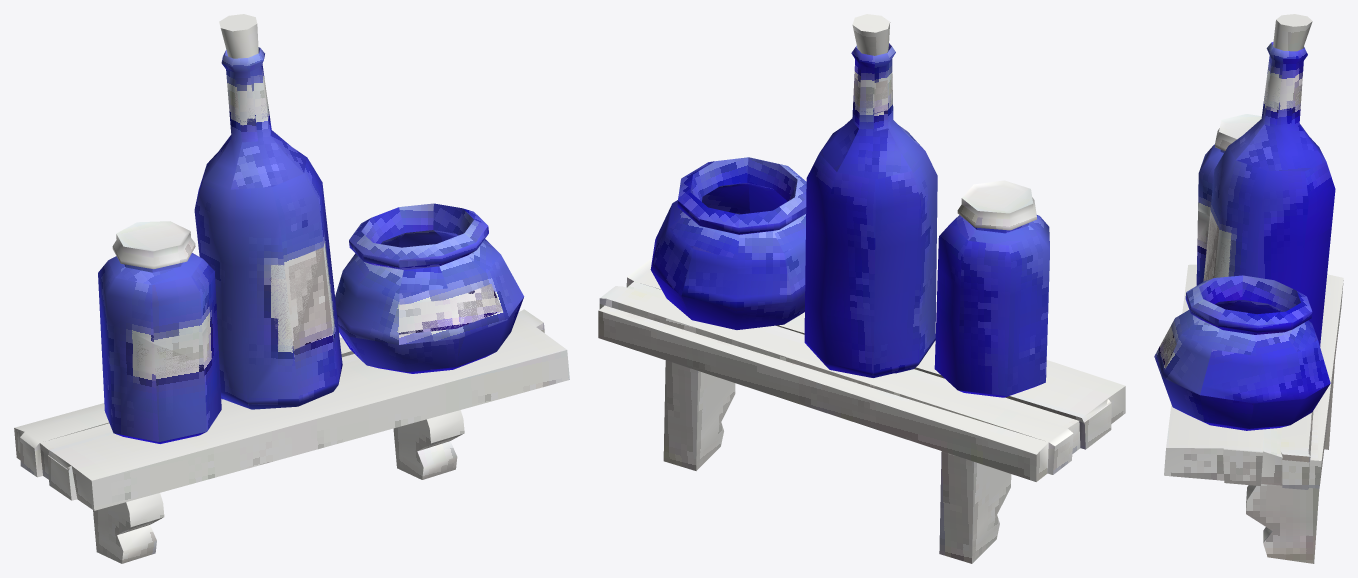
File: gg_wall_shelf_jars.glb
3 views of the same model, side by side, from view 1: azimuth 30°, elevation 25°; view 2: azimuth 150°, elevation 25°; view 3: azimuth 270°, elevation 25° (orthographic). The views are drawn at different scales.
Parts seen in each view (by area): view 1: mesh; view 2: mesh; view 3: mesh.
Part boxes in pixels (box(x1,y1,x2,y2)): mesh: box(14, 14, 569, 563); mesh: box(598, 14, 1125, 563); mesh: box(1154, 14, 1343, 563).
Size of the model in its own units: 0.5481 by 0.56 by 0.2035.
1 material, 1 textured.
